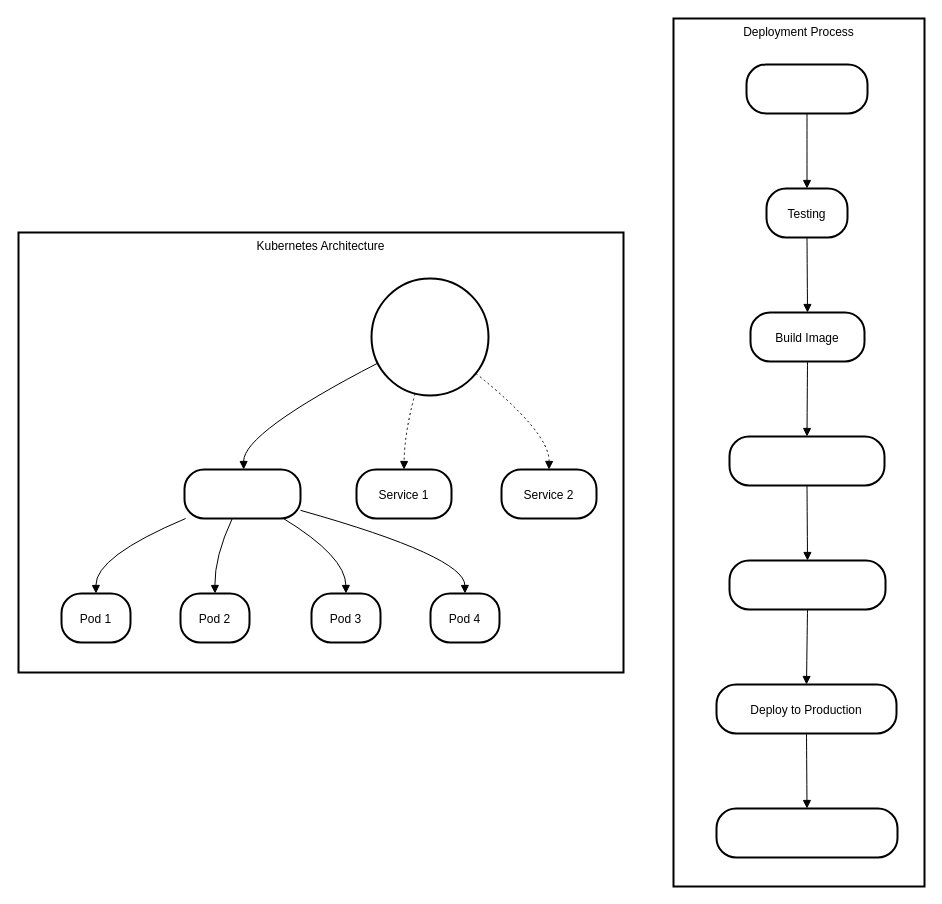
Some shapes in this 942 by 904 pixel diagram are drawn without their labels. Each missing label, with the centre of its shape:
"Deploy to Staging" goes at pixel 806 460.
"Deployment" goes at pixel 242 493.
"Load Balancer" goes at pixel 429 336.
"Review Code" goes at pixel 806 88.
"Testing in Production" goes at pixel 806 832.
"Testing in Staging" goes at pixel 807 584.
